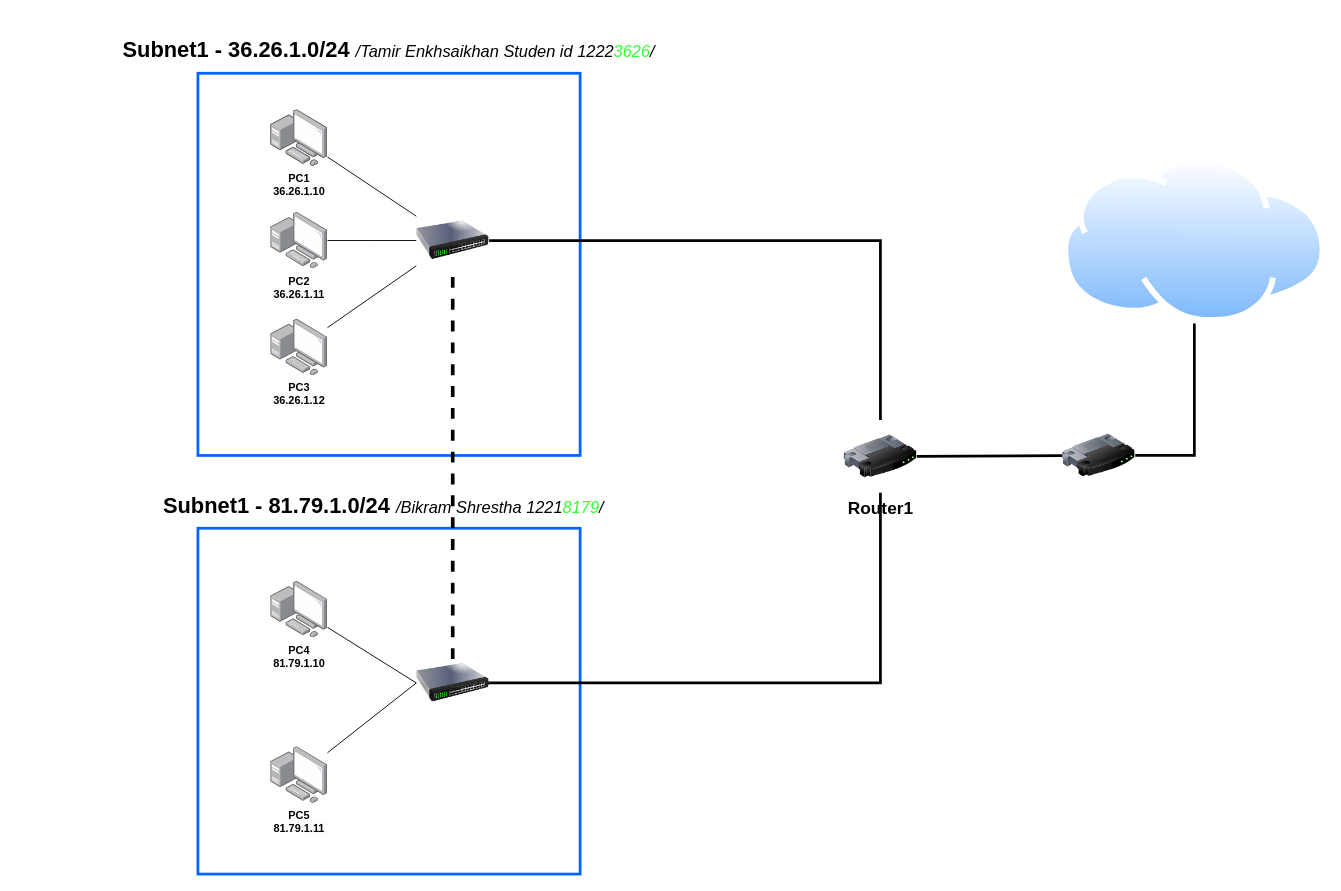
Some shapes in this 1341 by 891 pixel diagram are drawn without their labels. The shapes that lost their labels are listed below. From the top down, each one's centre as x and y in pixels, then its label:
At pixel 452 240: "Swich1 36.26.1.1".
At pixel 1098 455: "Router2".
At pixel 452 682: "Swich2 36.26.1.1".
